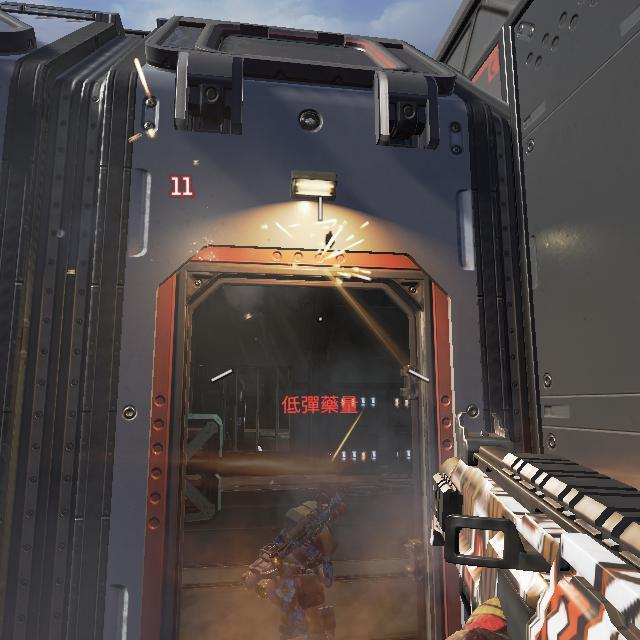avatar: (241, 492, 352, 640)
